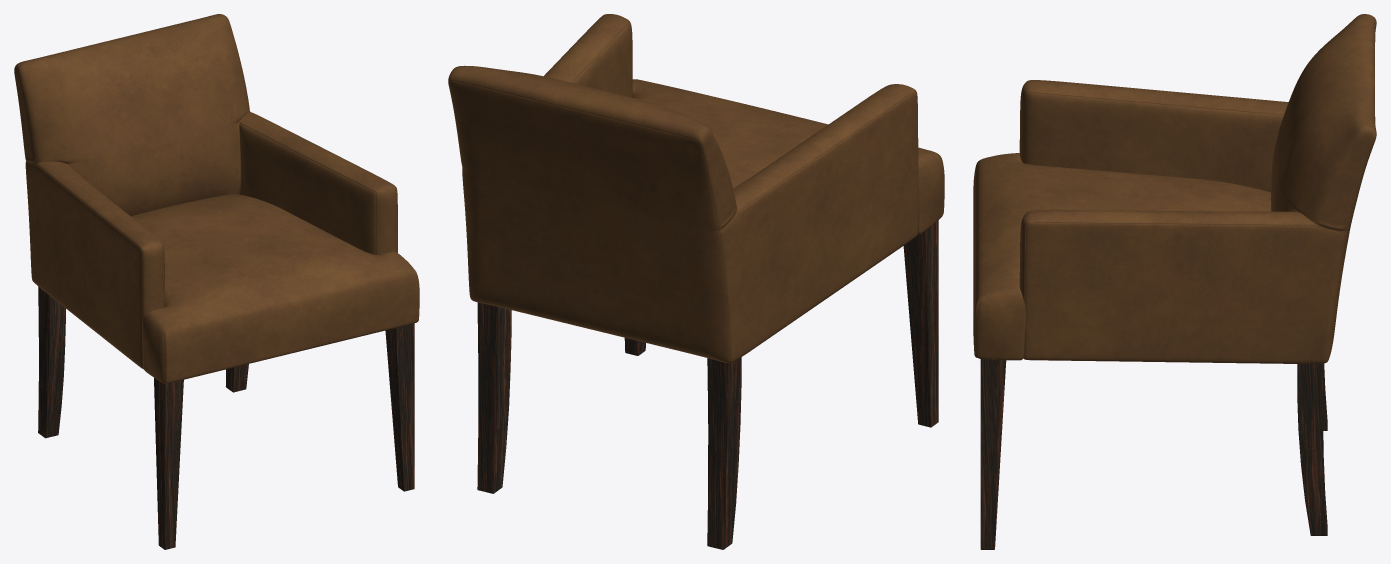
The model's file is Botero-Chair-Larforma.glb.
3 views of the same model, side by side, from view 1: azimuth 30°, elevation 25°; view 2: azimuth 150°, elevation 25°; view 3: azimuth 270°, elevation 25° (orthographic). The views are drawn at different scales.
Visible parts, largest first — view 1: Botero; view 2: Botero; view 3: Botero.
Boxes of the visible parts, x1,y1,x2,y2 form: Botero: (14, 14, 419, 549); Botero: (448, 14, 944, 549); Botero: (973, 14, 1376, 549).
Size of the model in its own units: 0.6091 by 0.7977 by 0.7068.
Materials: 3 (2 with a texture image).
